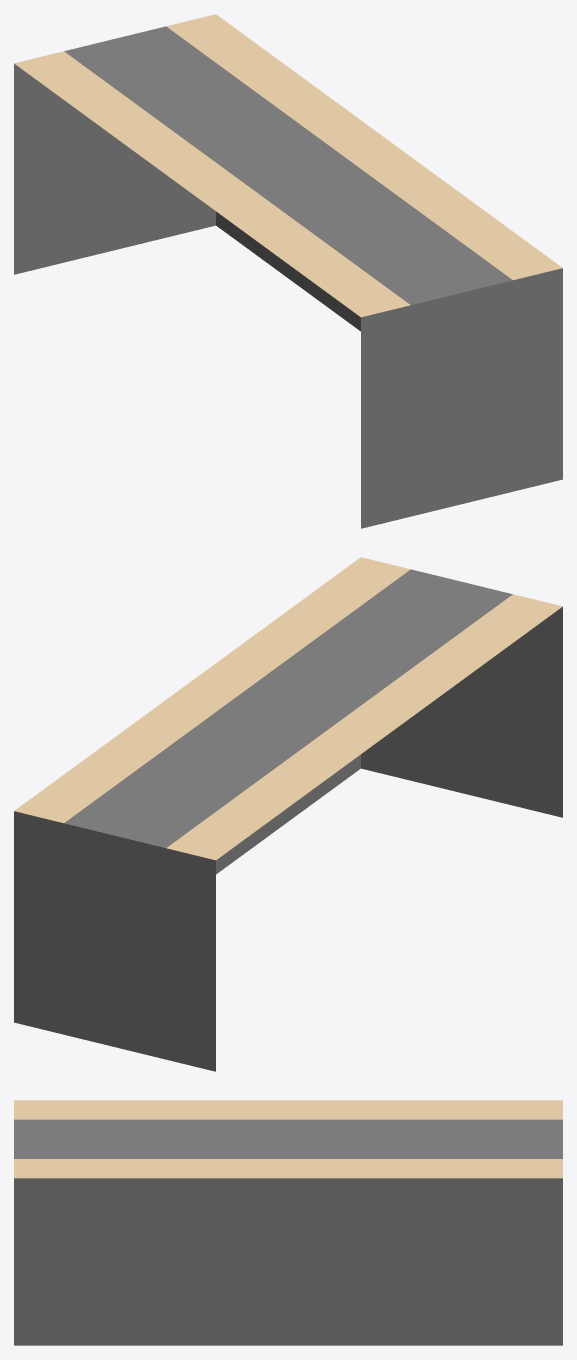
The model's file is Tavern (Steps Platform).fbx.
3 views of the same model, one above another, from view 1: azimuth 30°, elevation 25°; view 2: azimuth 150°, elevation 25°; view 3: azimuth 270°, elevation 25° (orthographic). The views are drawn at different scales.
Visible parts, largest first — view 1: Tavern (Steps Platform); view 2: Tavern (Steps Platform); view 3: Tavern (Steps Platform).
Boxes of the visible parts, <box> form: Tavern (Steps Platform): <box>14,14,562,528</box>; Tavern (Steps Platform): <box>14,557,562,1071</box>; Tavern (Steps Platform): <box>14,1100,562,1345</box>.
Bounding box in the file's own units: 200 × 200 × 595.
